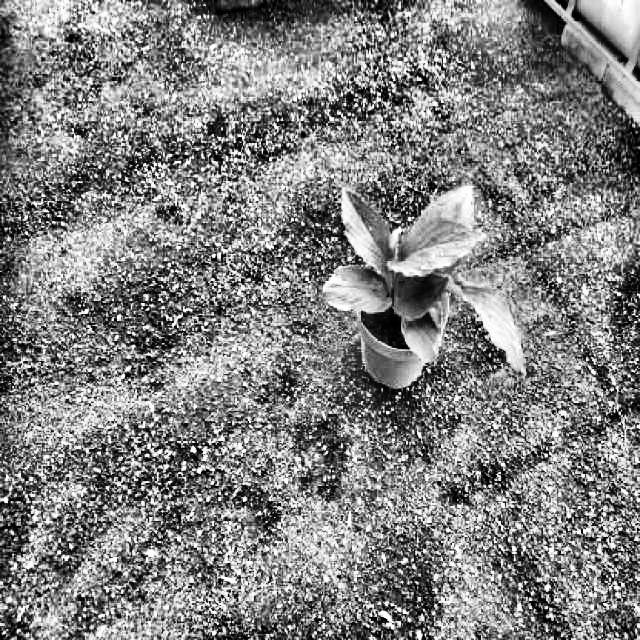plants: (316, 184, 524, 382)
